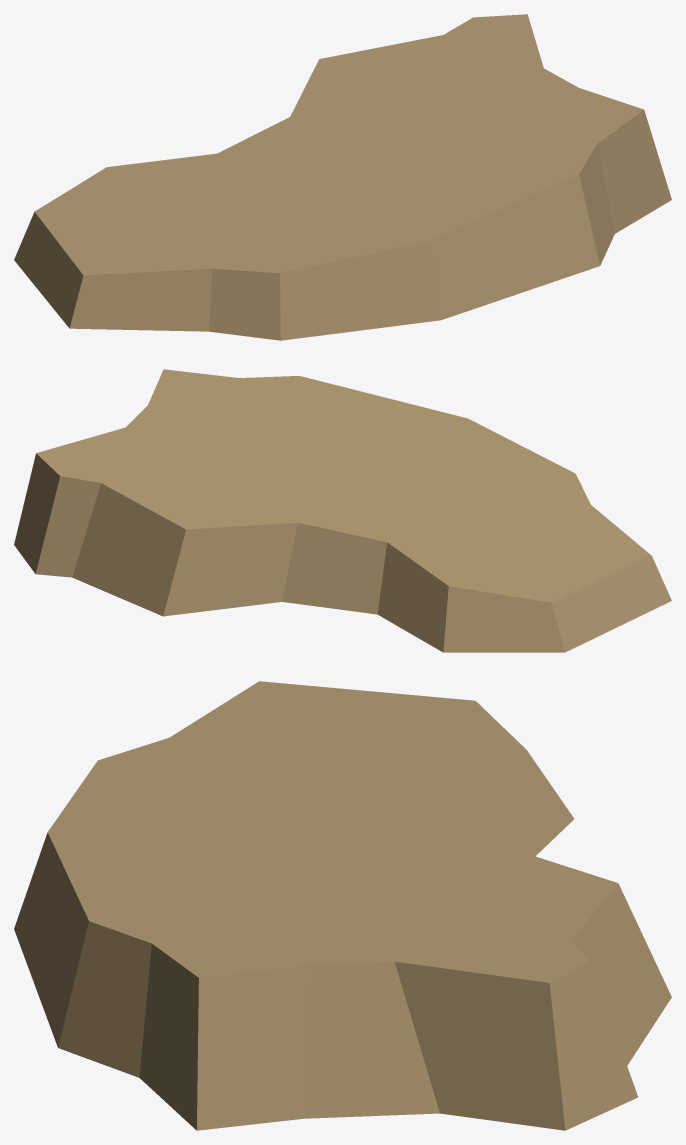
The model's file is Felsen_003.gltf.
The picture shows the model from 3 angles, top to bottom: view 1: azimuth 30°, elevation 25°; view 2: azimuth 150°, elevation 25°; view 3: azimuth 270°, elevation 25°; orthographic projection. The views are drawn at different scales.
Parts seen in each view (by area): view 1: Felsen.003-col; view 2: Felsen.003-col; view 3: Felsen.003-col.
Boxes of the visible parts, box(x1,y1,x2,y2) form: Felsen.003-col: box(14, 14, 671, 340); Felsen.003-col: box(14, 369, 671, 652); Felsen.003-col: box(14, 681, 671, 1130).
Bounding box in the file's own units: 3.49 × 0.5571 × 2.45.
